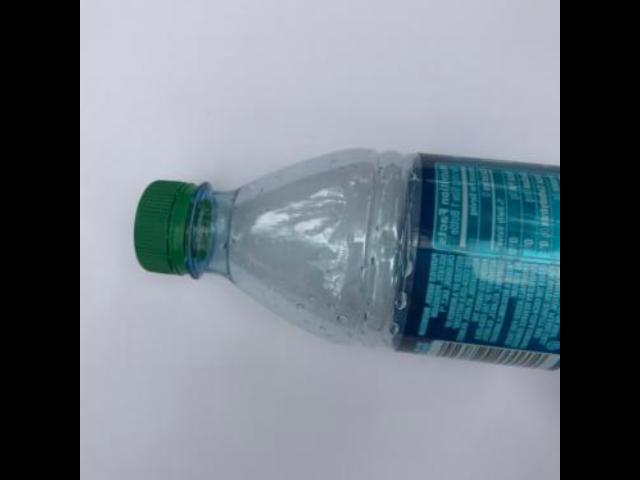plastic: (133, 147, 559, 366)
